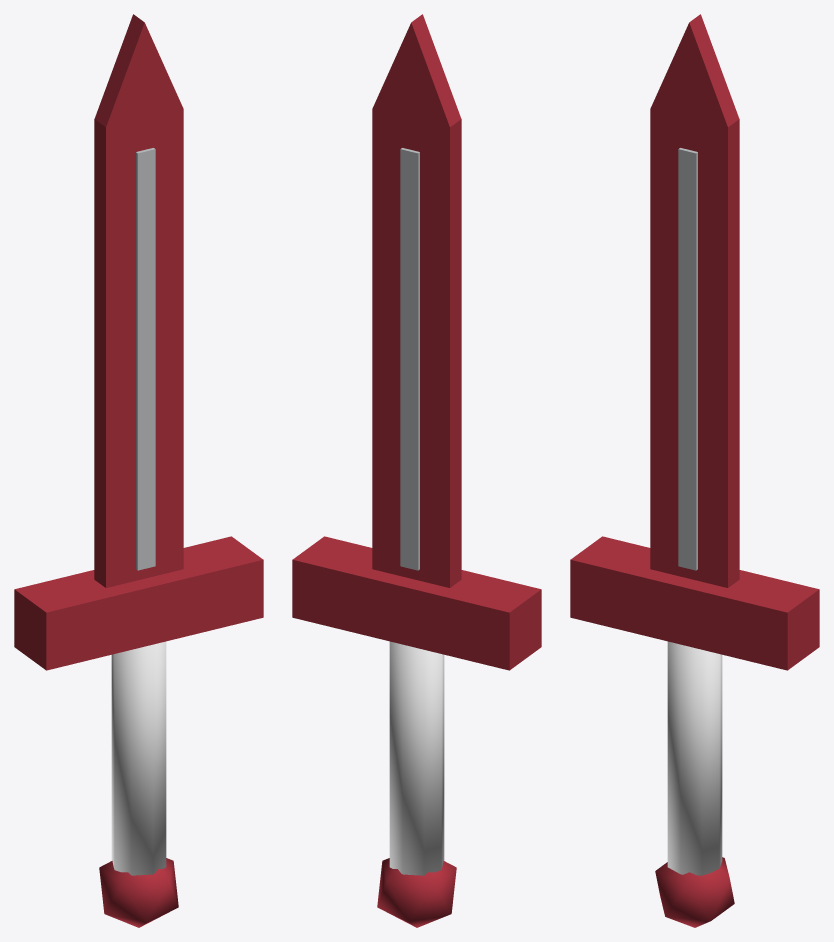
Rendered from crimtane_shortsword.glb.
The picture shows the model from 3 angles, left to right: view 1: azimuth 30°, elevation 25°; view 2: azimuth 150°, elevation 25°; view 3: azimuth 330°, elevation 25°; orthographic projection.
Visible parts, largest first — view 1: crimtane_shortsword_v0; view 2: crimtane_shortsword_v0; view 3: crimtane_shortsword_v0.
Boxes of the visible parts, x1,y1,x2,y2 form: crimtane_shortsword_v0: (14,14,263,927); crimtane_shortsword_v0: (292,14,541,927); crimtane_shortsword_v0: (570,14,819,927).
Bounding box in the file's own units: 0.196 × 0.785 × 0.0595.
